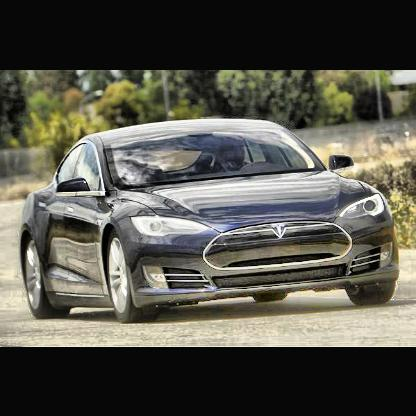Tesla Model S Sedan 2012: (20, 118, 400, 324)
